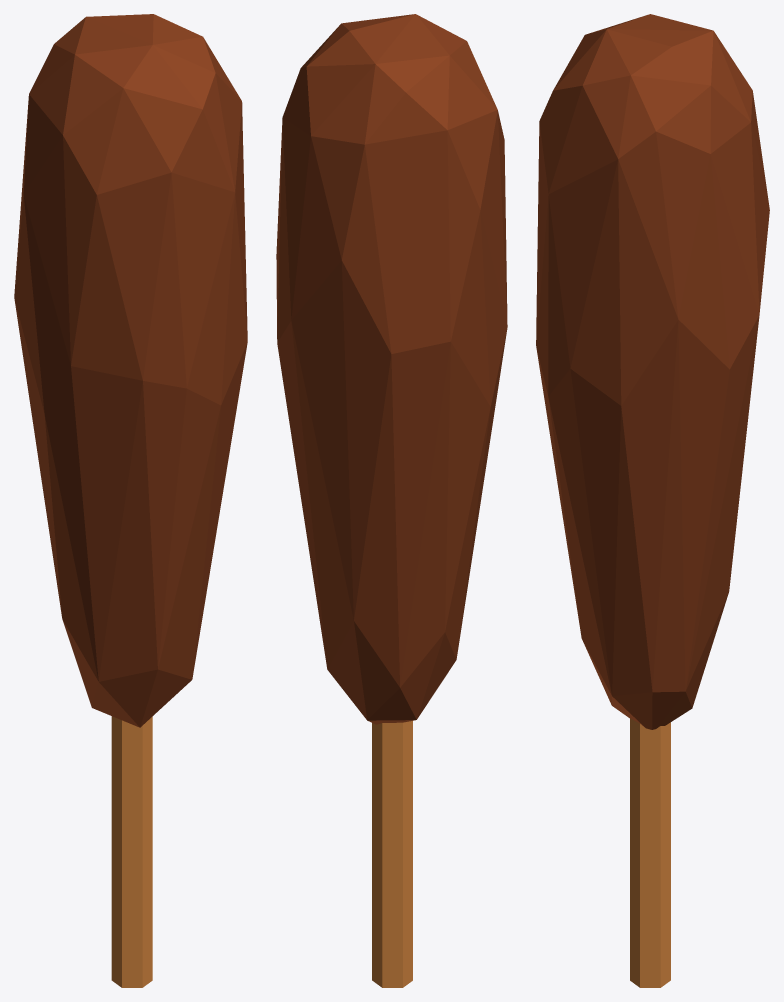
Rendered from Corndog.fbx.
3 renders of one model, left to right at view 1: azimuth 30°, elevation 25°; view 2: azimuth 150°, elevation 25°; view 3: azimuth 270°, elevation 25°, orthographic.
Parts seen in each view (by area): view 1: Corndog; view 2: Corndog; view 3: Corndog.
Boxes of the visible parts, x1=… form: Corndog: x1=14, y1=14, x2=247, y2=987; Corndog: x1=276, y1=14, x2=507, y2=987; Corndog: x1=536, y1=14, x2=769, y2=987.
Size of the model in its own units: 3.96 by 17.98 by 4.01.
